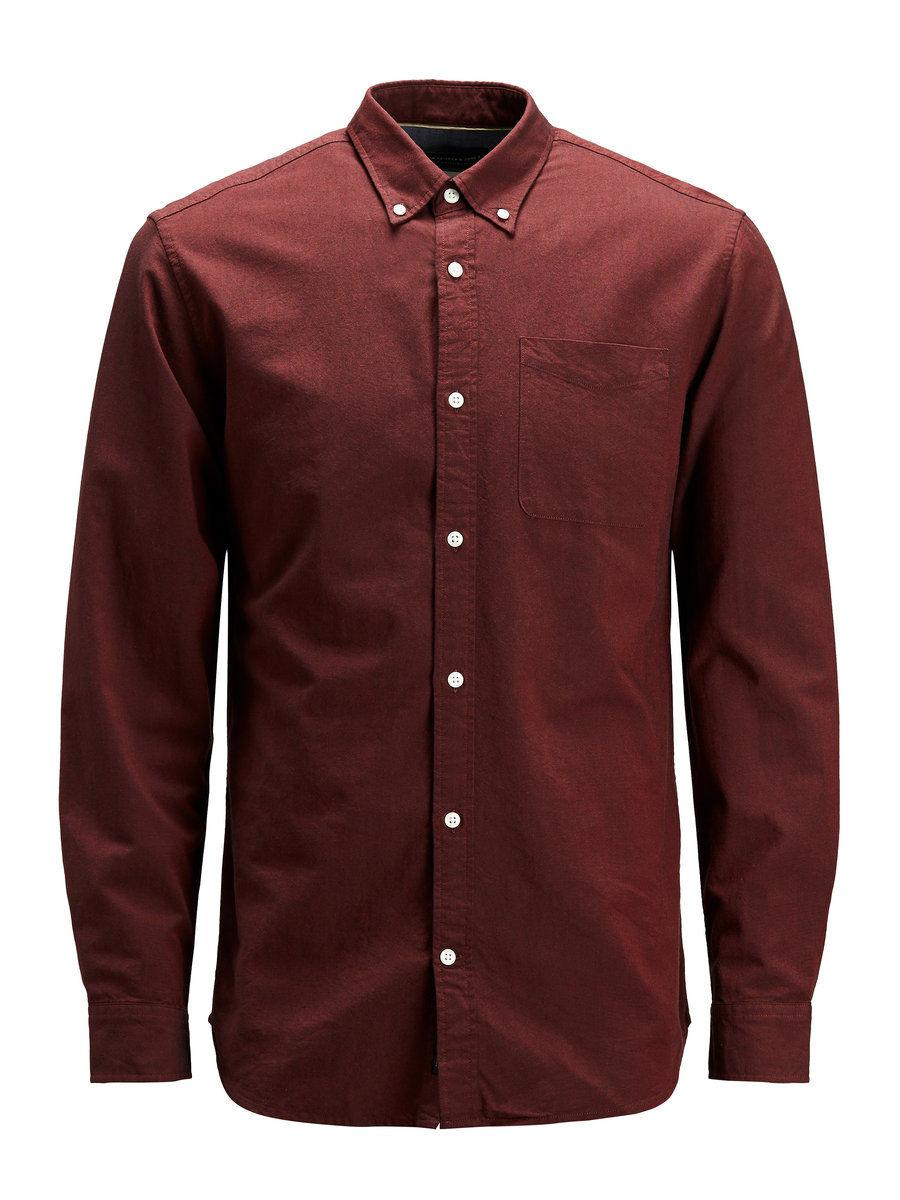teeshirt: (69, 74, 849, 1125)
